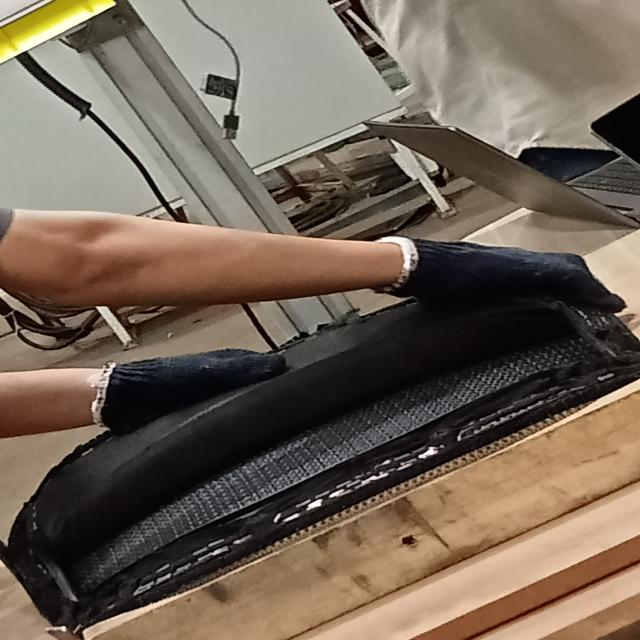Gloves-Detection: (371, 226, 619, 311), (92, 348, 280, 396)
